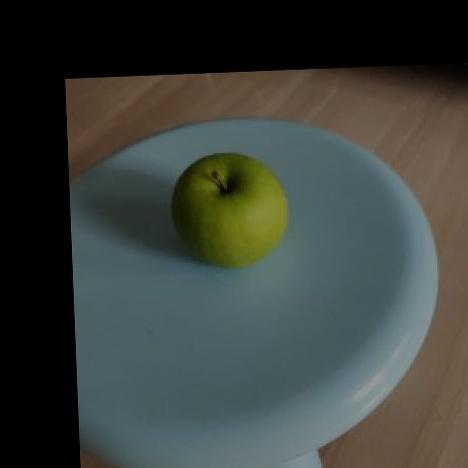green apple: (168, 150, 289, 267)
